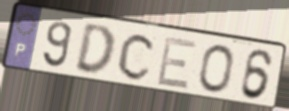6: (239, 48, 274, 103)
9: (41, 20, 73, 69)
C: (115, 31, 158, 83)
D: (72, 23, 116, 78)
E: (154, 35, 199, 92)
O: (197, 43, 235, 96)
